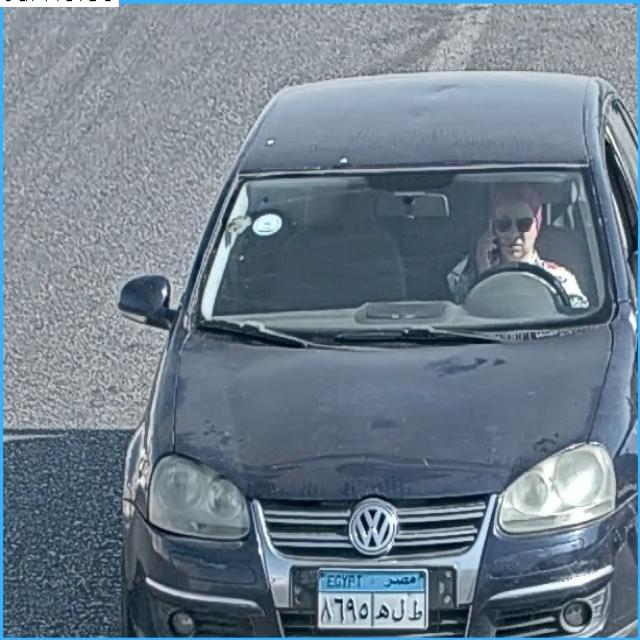windshield: (190, 163, 626, 330)
